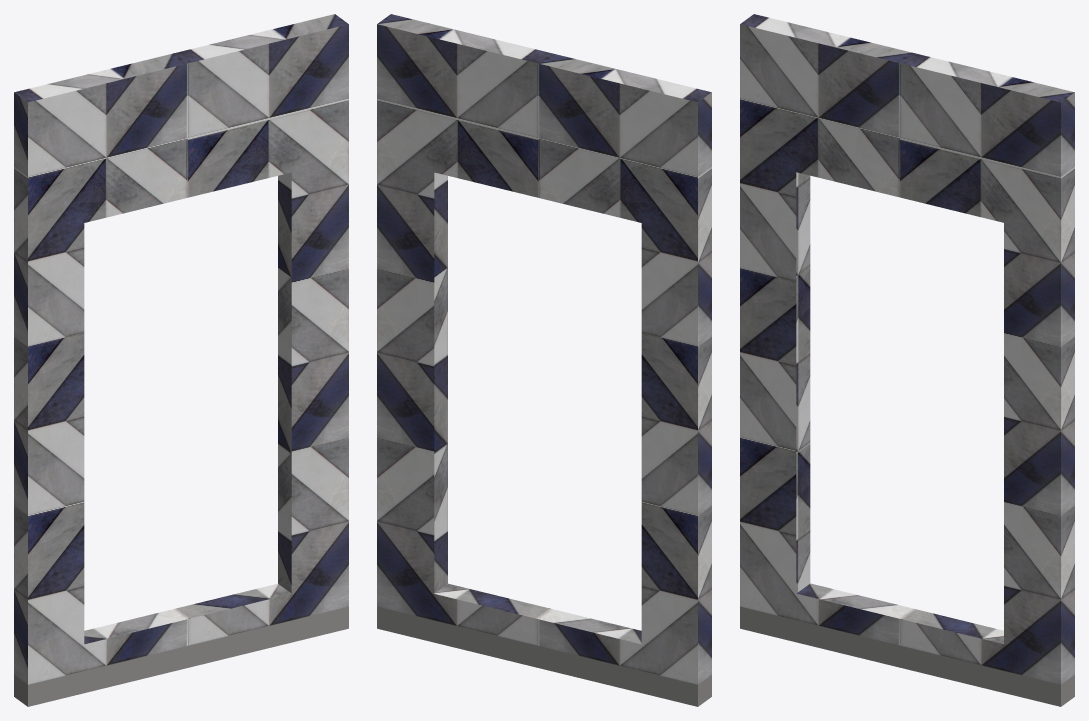
File: ARC0210039.fbx
The picture shows the model from 3 angles, left to right: view 1: azimuth 30°, elevation 25°; view 2: azimuth 150°, elevation 25°; view 3: azimuth 330°, elevation 25°; orthographic projection.
Parts seen in each view (by area): view 1: smARC0210039; view 2: smARC0210039; view 3: smARC0210039.
Boxes of the visible parts, x1,y1,x2,y2 form: smARC0210039: (14, 14, 348, 706); smARC0210039: (377, 14, 711, 706); smARC0210039: (740, 14, 1074, 706).
Size of the model in its own units: 182 by 328 by 13.67.
Materials: 1 (1 with a texture image).
